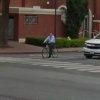bicycles: (41, 42, 59, 59)
cars: (83, 30, 100, 59)
